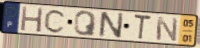C: (43, 8, 67, 35)
H: (19, 6, 45, 34)
N: (98, 11, 126, 39), (155, 15, 180, 43)
Q: (73, 10, 98, 37)
T: (133, 13, 153, 42)
